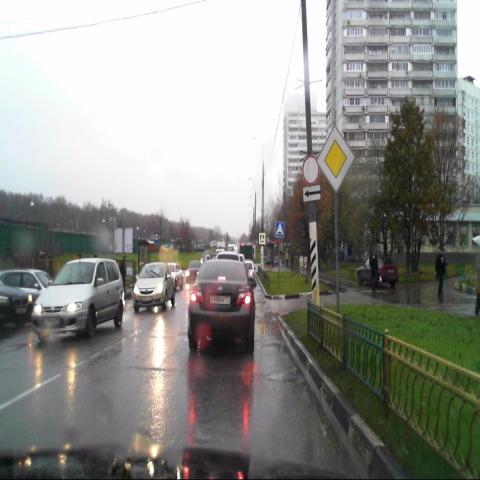3_2: (303, 155, 319, 185)
8_3_2: (303, 184, 321, 201)
